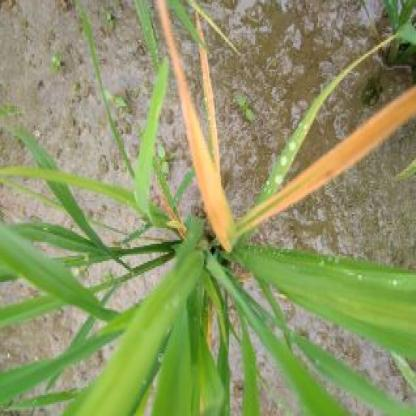Tungro: (164, 7, 236, 230)
